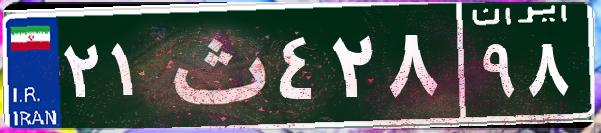1: (110, 28, 158, 105)
2: (330, 28, 385, 110), (57, 26, 110, 107)
4: (273, 28, 330, 110)
8: (385, 28, 445, 110), (525, 38, 570, 115)
9: (475, 38, 525, 113)
ث: (158, 15, 273, 115)
